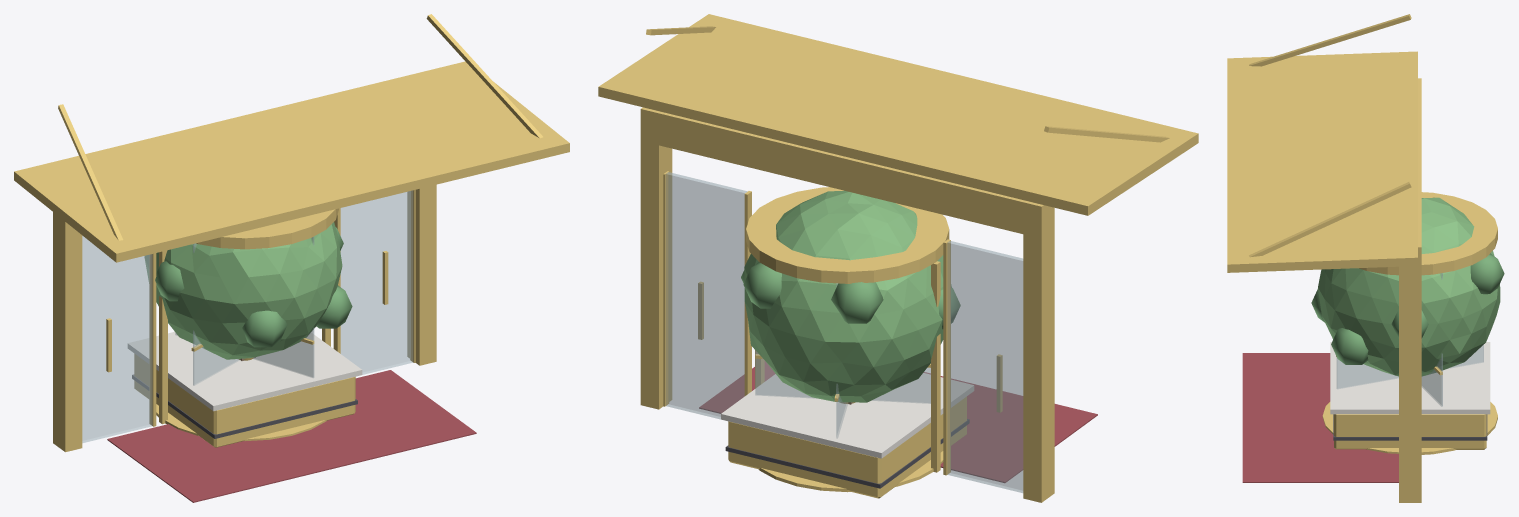
The model's file is tower_plaza.glb.
3 renders of one model, left to right at view 1: azimuth 30°, elevation 25°; view 2: azimuth 150°, elevation 25°; view 3: azimuth 270°, elevation 25°, orthographic. The views are drawn at different scales.
Visible parts, largest first — view 1: dt_doors_mesh, dt_planter_mesh; view 2: dt_doors_mesh, dt_planter_mesh; view 3: dt_doors_mesh, dt_planter_mesh.
Part boxes in pixels (x1,y1,x2,y2): dt_doors_mesh: (14,14,569,502); dt_planter_mesh: (128,222,362,447); dt_doors_mesh: (598,14,1198,502); dt_planter_mesh: (721,190,973,498); dt_doors_mesh: (1227,14,1497,502); dt_planter_mesh: (1311,197,1504,449).
Bounding box in the file's own units: 6.4 × 4.63 × 3.64.
